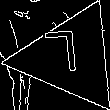L_S: (50, 31, 90, 85)
